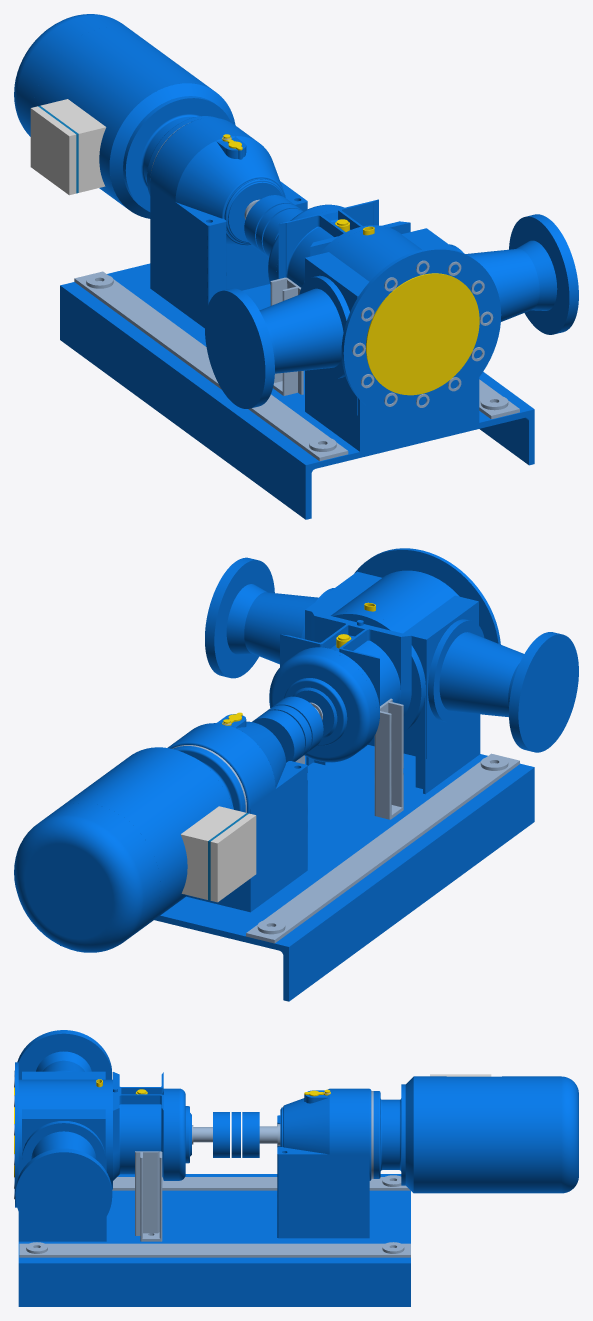
The model's file is rotor-pump.gltf.
The picture shows the model from 3 angles, top to bottom: view 1: azimuth 30°, elevation 25°; view 2: azimuth 150°, elevation 25°; view 3: azimuth 270°, elevation 25°; orthographic projection. The views are drawn at different scales.
Visible parts, largest first — view 1: 拉伸 [219377], 拉伸 [219547], 拉伸 [218886], 拉伸 [219502], 连接的实心几何图形 [219430], 拉伸 [219262], 拉伸 [219303], 拉伸 [219402], 旋转 [219245], 连接的实心几何图形 [219013], 拉伸 [218950], 连接的实心几何图形 [219207] (+19 smaller); view 2: 拉伸 [219377], 旋转 [218878], 拉伸 [218886], 连接的实心几何图形 [219430], 拉伸 [219262], 连接的实心几何图形 [219207], 旋转 [219106], 旋转 [219245], 拉伸 [219513], 旋转 [219331], 拉伸 [219239], 拉伸 [219402] (+18 smaller); view 3: 拉伸 [219377], 拉伸 [218886], 连接的实心几何图形 [219430], 拉伸 [219239], 旋转 [218878], 拉伸 [219402], 连接的实心几何图形 [219207], 拉伸 [218950], 旋转 [219331], 旋转 [218940], 连接的实心几何图形 [219013], 拉伸 [219262] (+18 smaller).
Boxes of the visible parts, x1,y1,x2,y2 form: 拉伸 [219377]: (60, 263, 534, 519); 拉伸 [219547]: (366, 273, 479, 395); 拉伸 [218886]: (33, 27, 213, 207); 拉伸 [219502]: (341, 248, 501, 418); 连接的实心几何图形 [219430]: (74, 271, 519, 461); 拉伸 [219262]: (205, 288, 274, 408); 拉伸 [219303]: (305, 377, 479, 451); 拉伸 [219402]: (175, 181, 307, 328); 旋转 [219245]: (259, 288, 343, 373); 连接的实心几何图形 [219013]: (175, 136, 285, 245); 拉伸 [218950]: (150, 184, 269, 306); 连接的实心几何图形 [219207]: (278, 199, 410, 287); 拉伸 [219377]: (60, 745, 534, 1001); 旋转 [218878]: (14, 803, 160, 952); 拉伸 [218886]: (57, 747, 232, 926); 连接的实心几何图形 [219430]: (246, 753, 519, 943); 拉伸 [219262]: (509, 632, 578, 752); 连接的实心几何图形 [219207]: (280, 611, 411, 718); 旋转 [219106]: (269, 649, 377, 762); 旋转 [219245]: (439, 632, 523, 717); 拉伸 [219513]: (368, 595, 478, 758); 旋转 [219331]: (331, 570, 459, 689); 拉伸 [219239]: (205, 557, 274, 678); 拉伸 [219402]: (275, 761, 307, 893); 拉伸 [219377]: (18, 1174, 410, 1306); 拉伸 [218886]: (413, 1076, 534, 1193); 连接的实心几何图形 [219430]: (19, 1175, 410, 1257); 拉伸 [219239]: (15, 1148, 112, 1239); 旋转 [218878]: (535, 1076, 578, 1193); 拉伸 [219402]: (277, 1115, 329, 1238); 连接的实心几何图形 [219207]: (113, 1072, 163, 1180); 拉伸 [218950]: (329, 1154, 369, 1238); 旋转 [219331]: (18, 1079, 106, 1157); 旋转 [218940]: (329, 1088, 371, 1180); 连接的实心几何图形 [219013]: (283, 1089, 329, 1154); 拉伸 [219262]: (17, 1030, 112, 1079).
Size of the model in its own units: 0.6573 by 0.4845 by 1.28.
